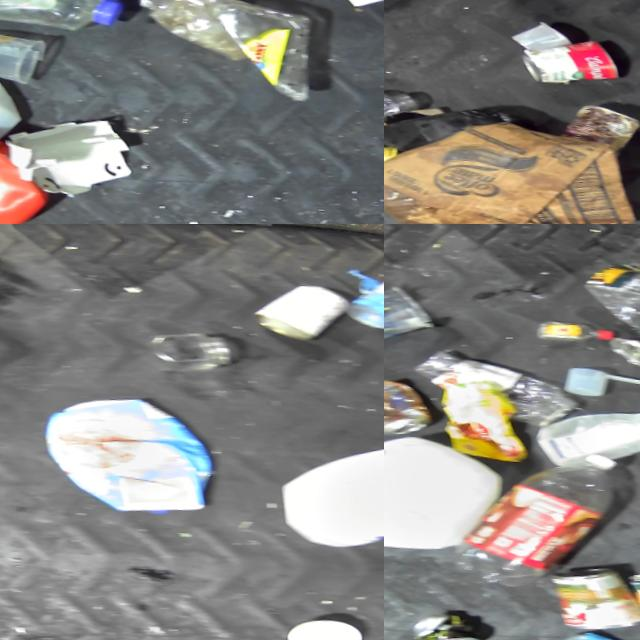can: (509, 20, 627, 88), (537, 551, 636, 628), (250, 267, 352, 340), (384, 363, 442, 438), (403, 597, 484, 640)
milk_jug: (384, 419, 515, 566), (263, 416, 384, 554)
non_white_jug: (0, 119, 48, 224)
plastic_bottle: (438, 433, 635, 589)
